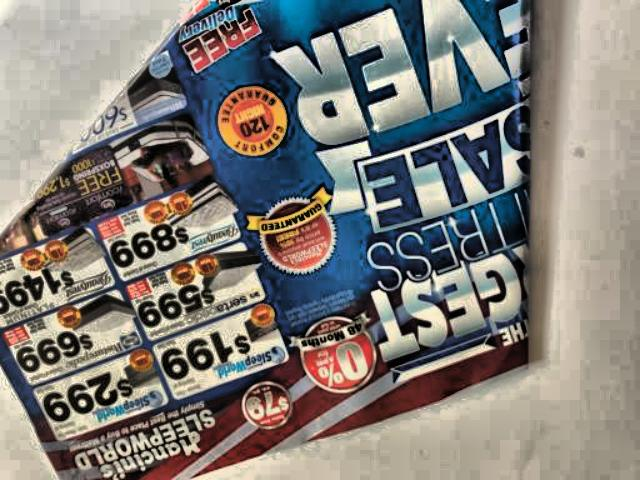Paper: (0, 0, 535, 480)
